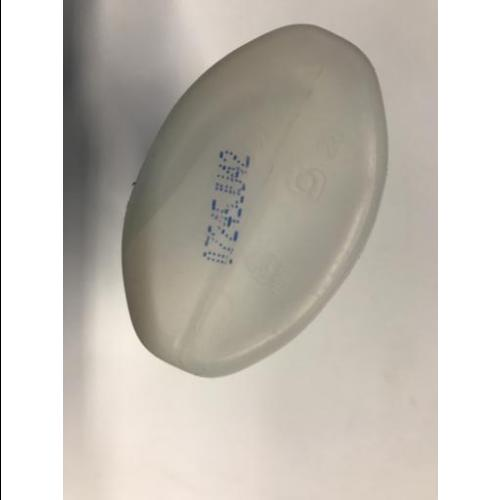plastic: (122, 24, 390, 380)
